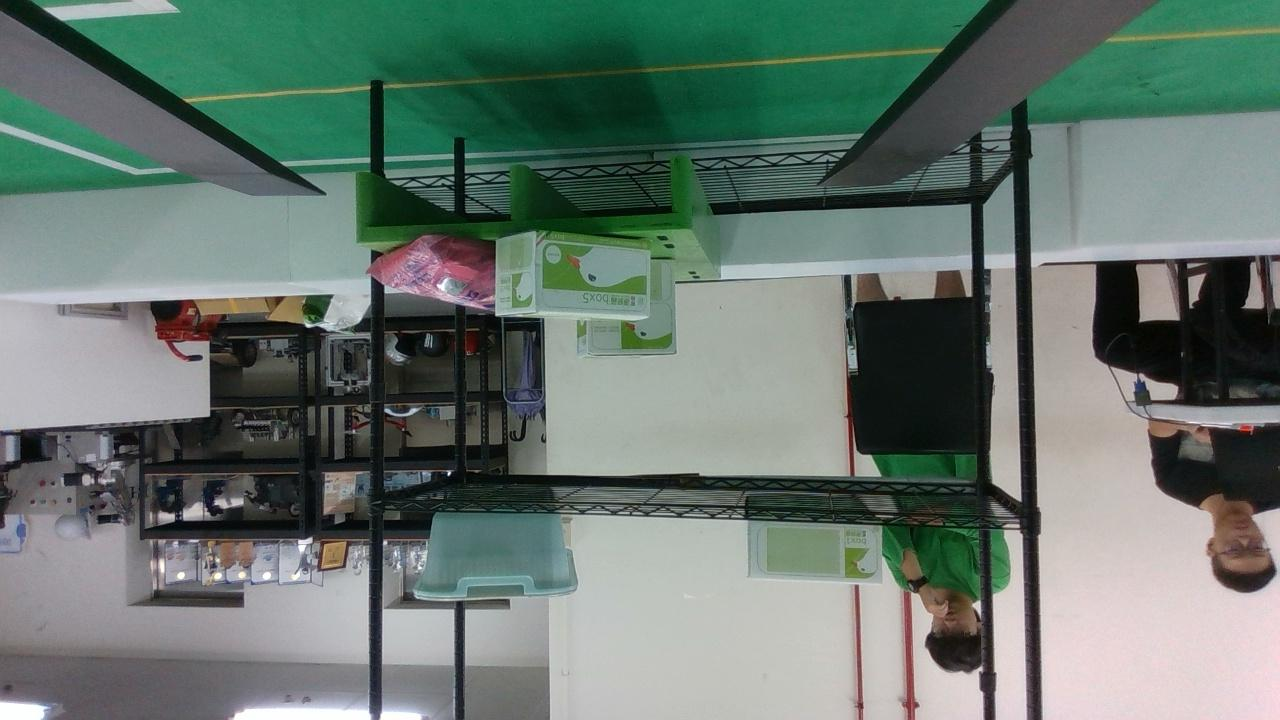Pallet: (357, 156, 700, 244)
